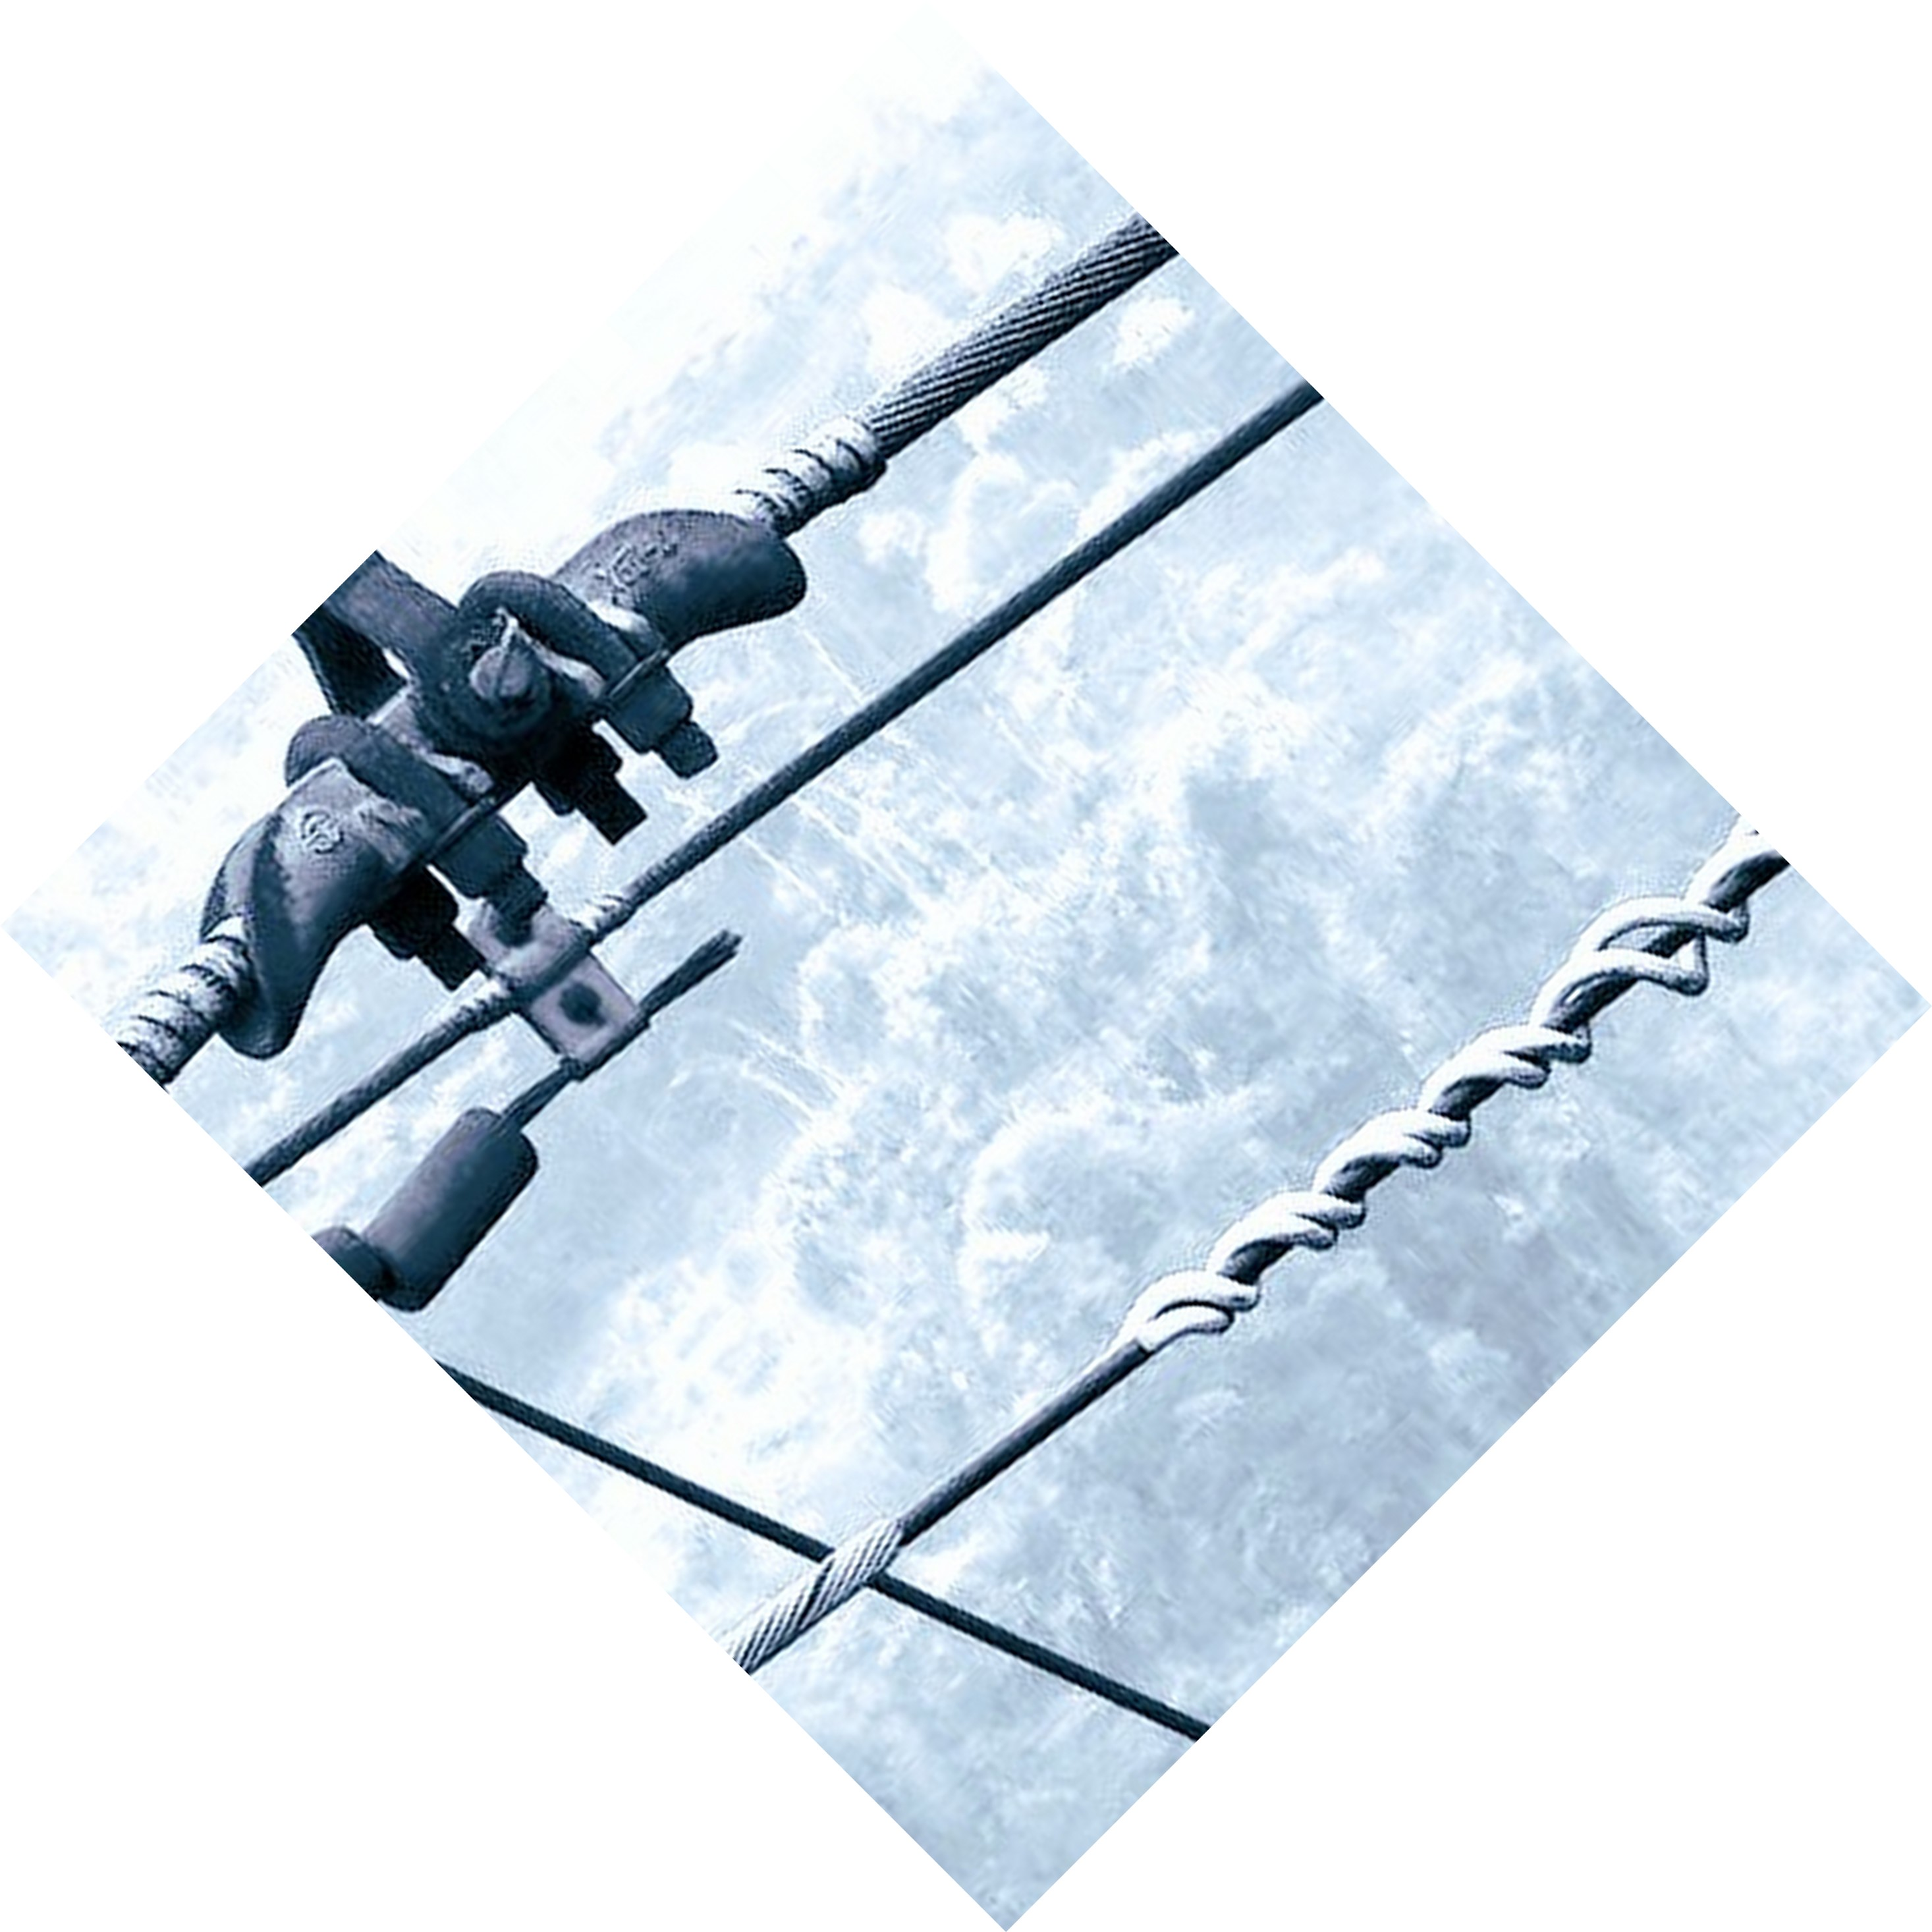Damage of shockproof hammer: (345, 855, 759, 1315)
